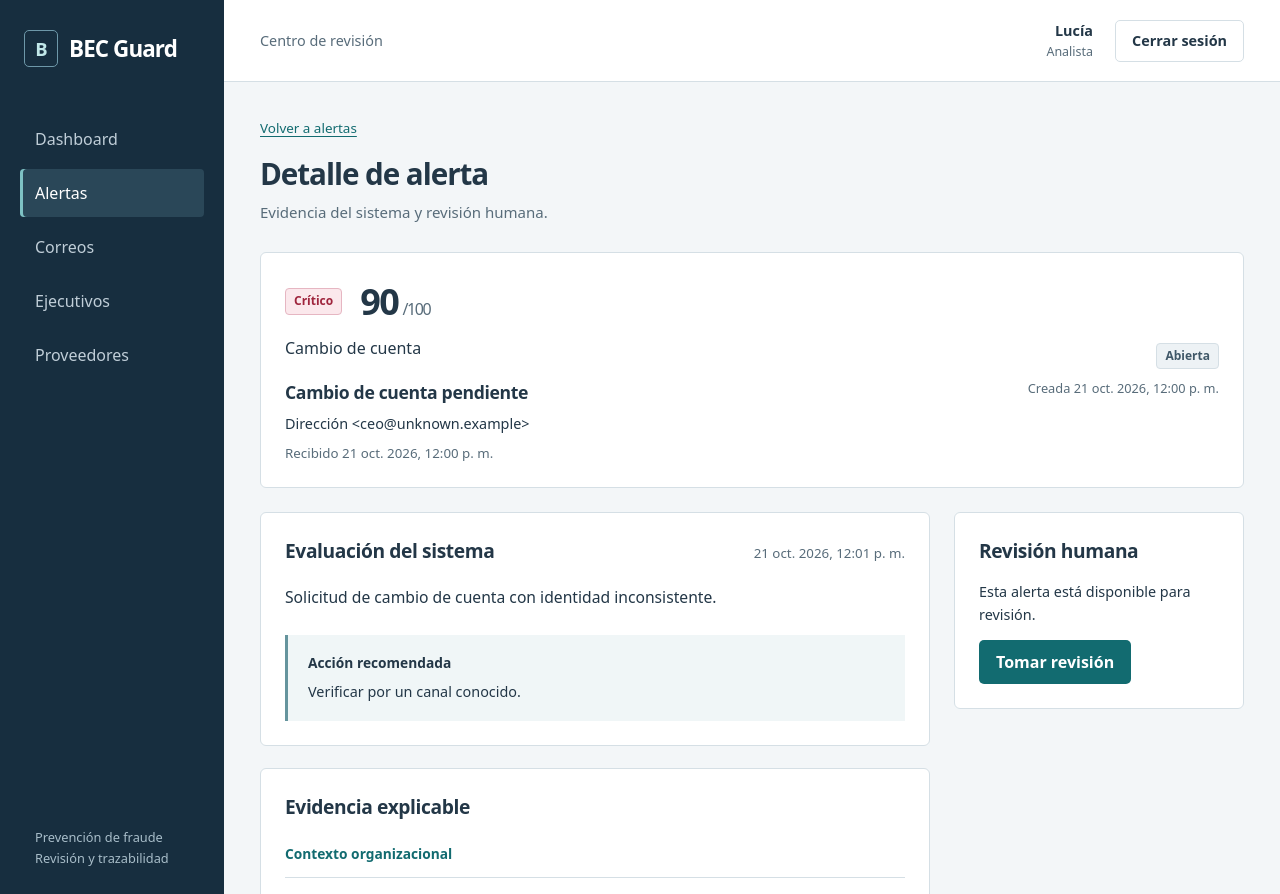
Test: 409 refreshes current ownership
Click the button "Tomar revisión".
click(1055, 662)  # box x1=979 y1=640 x2=1131 y2=684
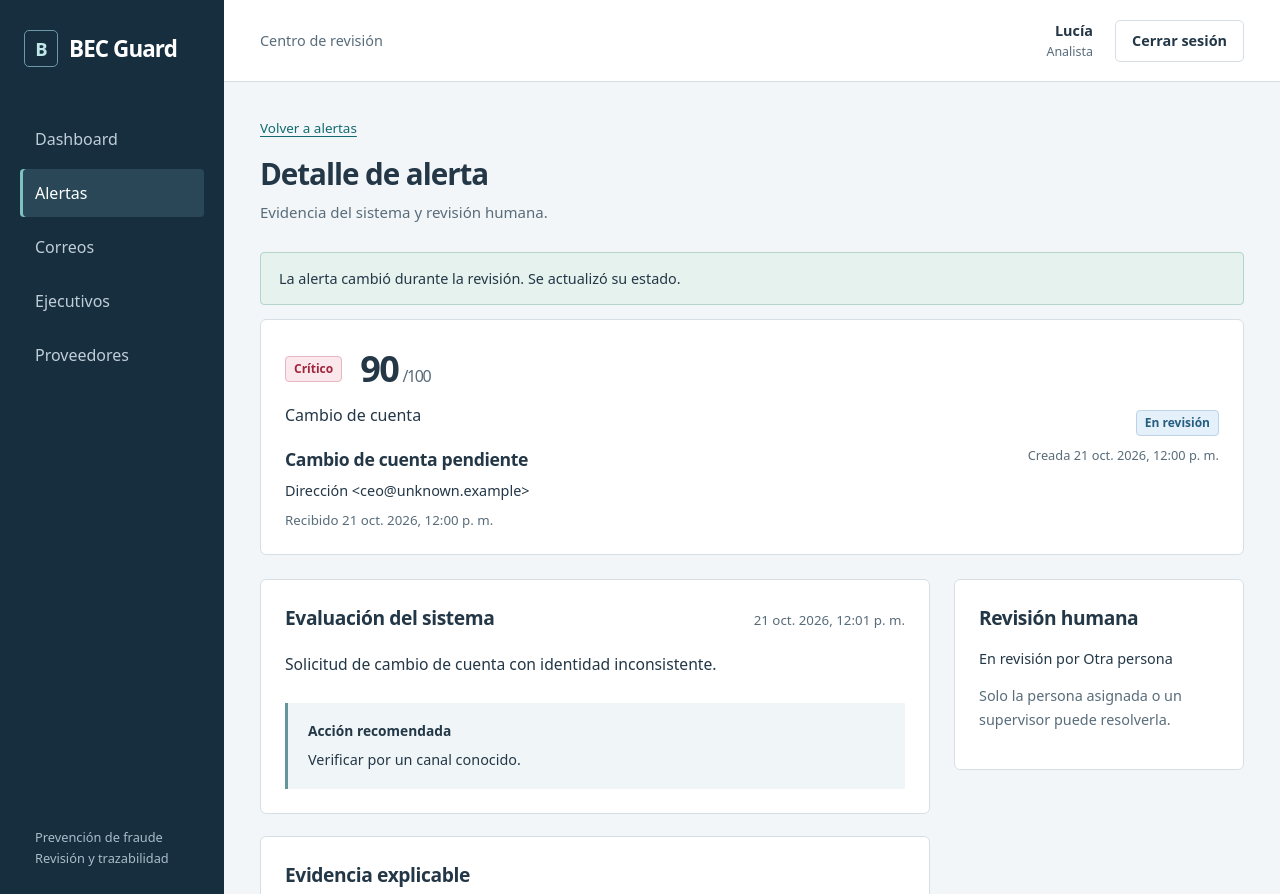
expect the text "En revisión por Otra persona" is shown: met, box x1=979 y1=649 x2=1173 y2=668
expect the text "La alerta cambió durante la revisión. Se actualizó su estado." is shown: met, box x1=260 y1=252 x2=1244 y2=305
